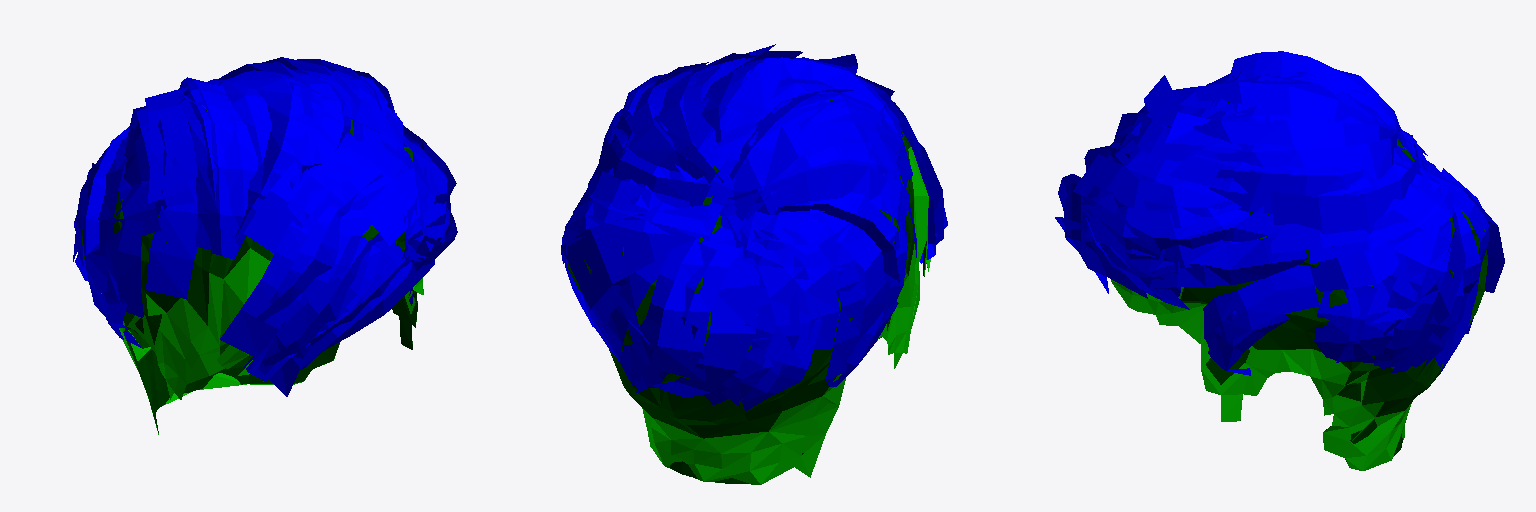
File: hair_004.obj
3 renders of one model, left to right at view 1: azimuth 30°, elevation 25°; view 2: azimuth 150°, elevation 25°; view 3: azimuth 270°, elevation 25°, orthographic.
Size of the model in its own units: 18.68 by 21.91 by 24.16.